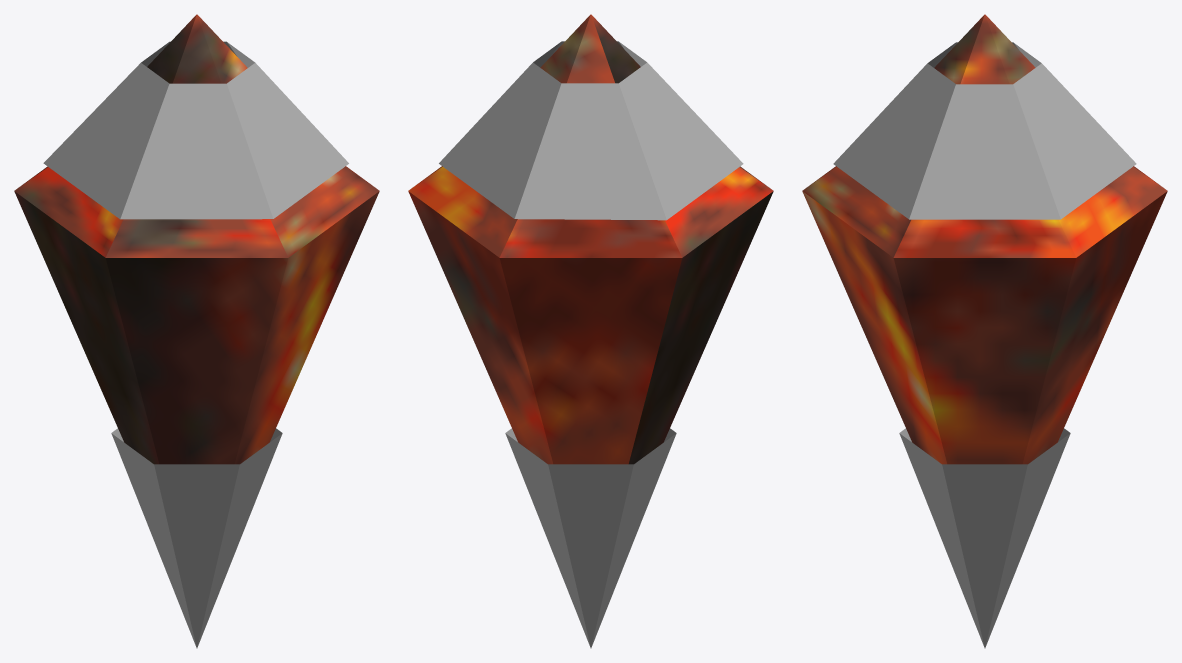
The model's file is ktlyz_bs1.FBX.
The picture shows the model from 3 angles, left to right: view 1: azimuth 30°, elevation 25°; view 2: azimuth 150°, elevation 25°; view 3: azimuth 270°, elevation 25°; orthographic projection.
Parts seen in each view (by area): view 1: ktlyz_bs1, ktlyz_bs2; view 2: ktlyz_bs1, ktlyz_bs2; view 3: ktlyz_bs1, ktlyz_bs2.
Part boxes in pixels (box(x1,y1,x2,y2)): ktlyz_bs1: box(14, 14, 379, 464); ktlyz_bs2: box(43, 41, 348, 648); ktlyz_bs1: box(408, 14, 773, 464); ktlyz_bs2: box(439, 41, 743, 648); ktlyz_bs1: box(802, 14, 1167, 464); ktlyz_bs2: box(833, 42, 1136, 648).
Size of the model in its own units: 136 by 302 by 157.
